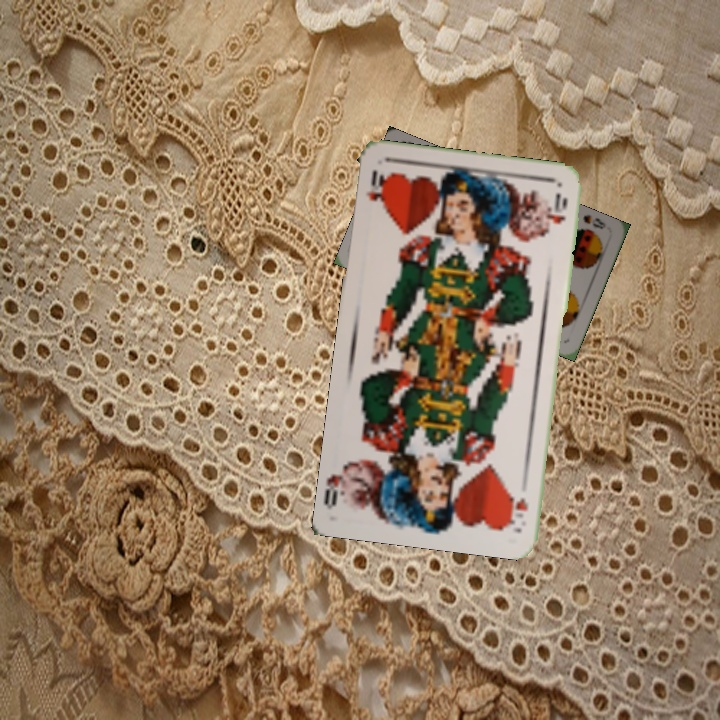HO: (361, 166, 390, 211), (506, 493, 531, 528)
S8: (579, 211, 608, 232)
